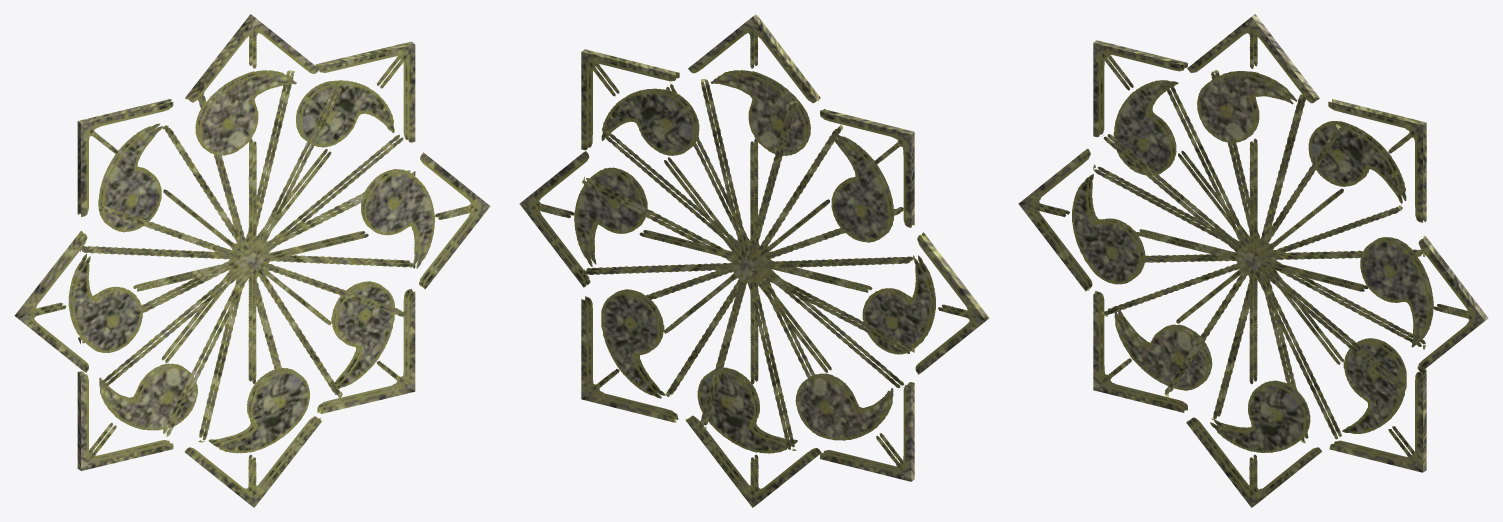
Rendered from sword_raijin_jpsword_raijin_katana.glb.
3 renders of one model, left to right at view 1: azimuth 30°, elevation 25°; view 2: azimuth 150°, elevation 25°; view 3: azimuth 330°, elevation 25°, orthographic.
Size of the model in its own units: 0.1782 by 0.1781 by 0.00818.
Materials: 1 (1 with a texture image).
